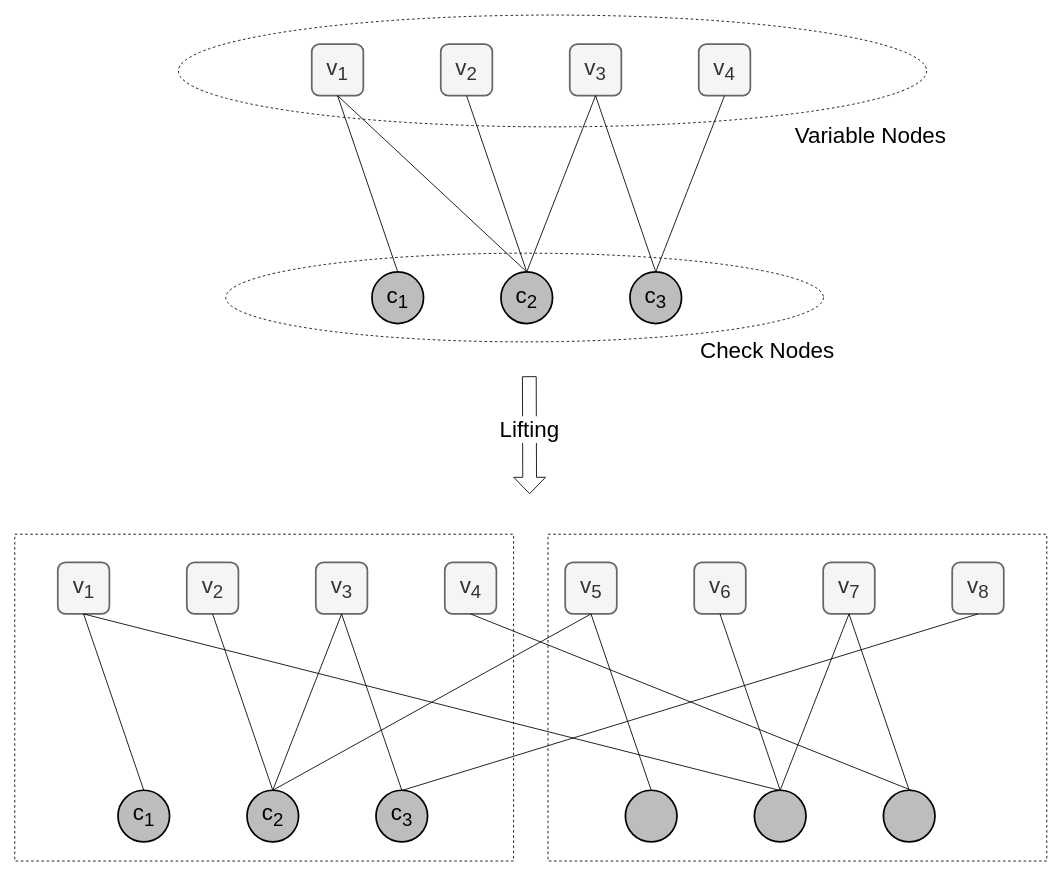
This 1062x876 diagram has some shape labels left out. The centre of each missing label's shape, as x and y in pixels:
c 4: point 650,815
c 5: point 779,815
c 6: point 908,815
